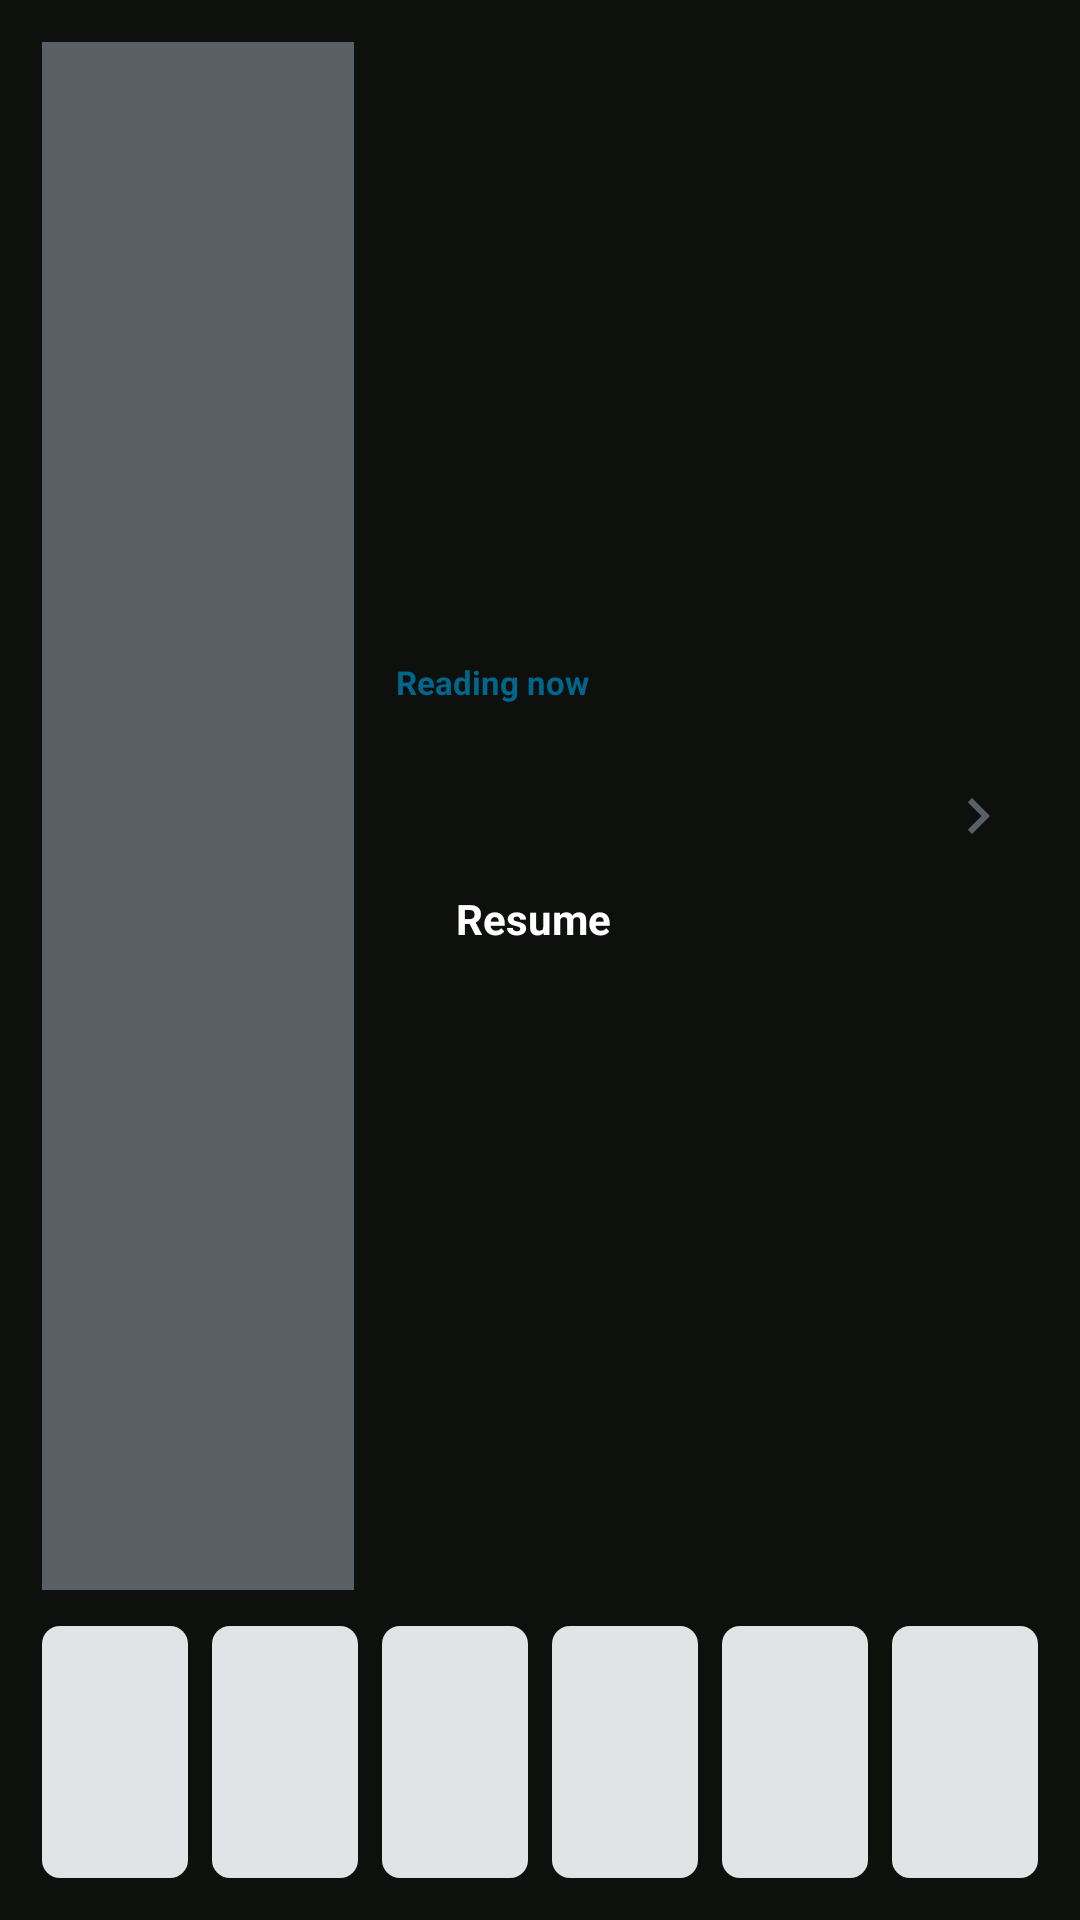

Named icons in this screenshot (1080x1920) and their bounding boxes, (x1, y1, x2, y2):
Next series: (968, 798, 990, 834)
